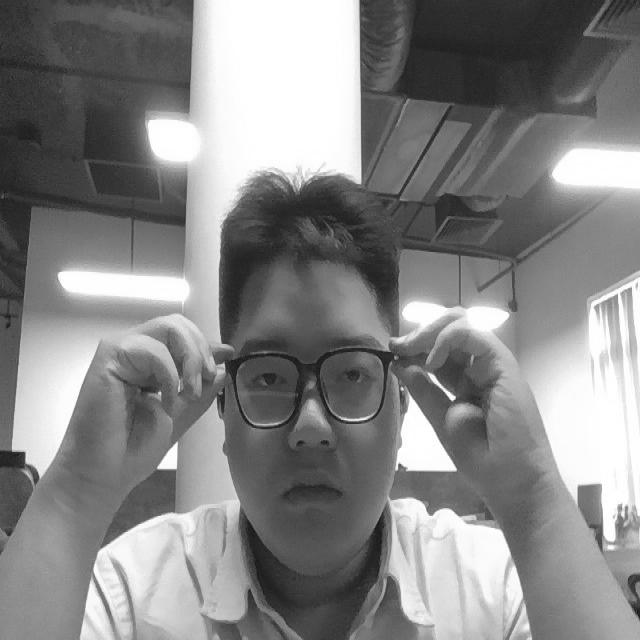real: (200, 136, 408, 603), (215, 331, 400, 436)
